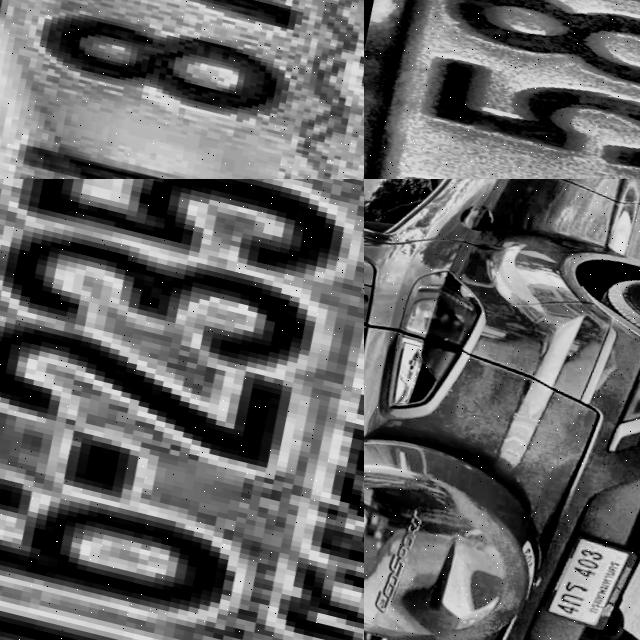license-plate: (0, 179, 364, 640), (0, 0, 364, 179), (364, 0, 640, 179), (528, 526, 639, 636)
